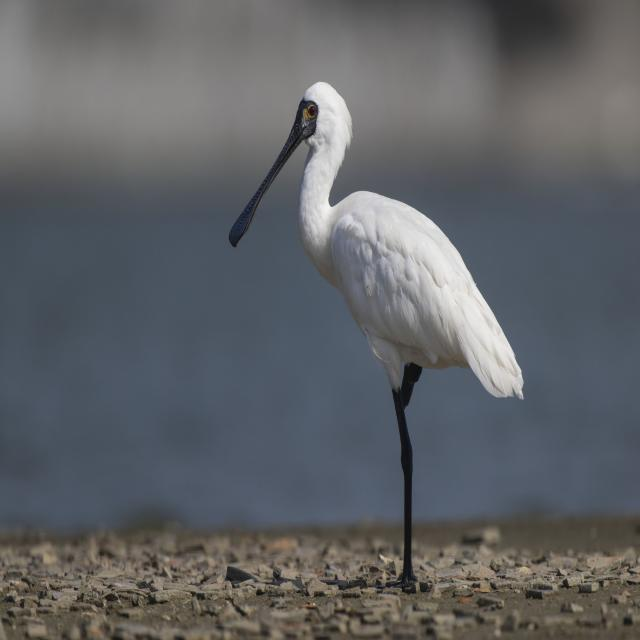Black-faced spoonbill: (230, 83, 523, 586)
